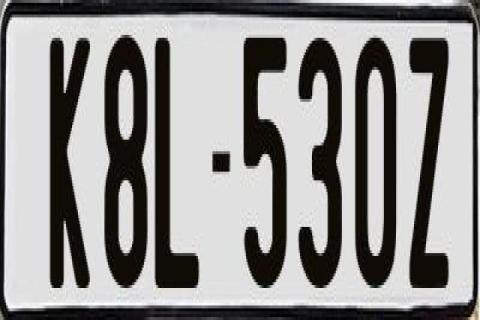0: (244, 38, 294, 297), (296, 32, 344, 294), (351, 38, 398, 294), (102, 35, 146, 297)
K: (48, 32, 90, 285)
L: (155, 35, 201, 288)
Z: (410, 32, 452, 291)
